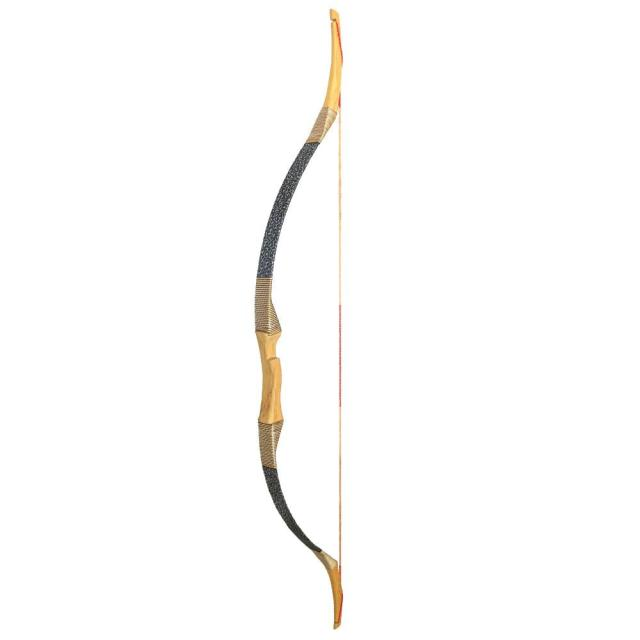X-Bow: (238, 0, 356, 640)
